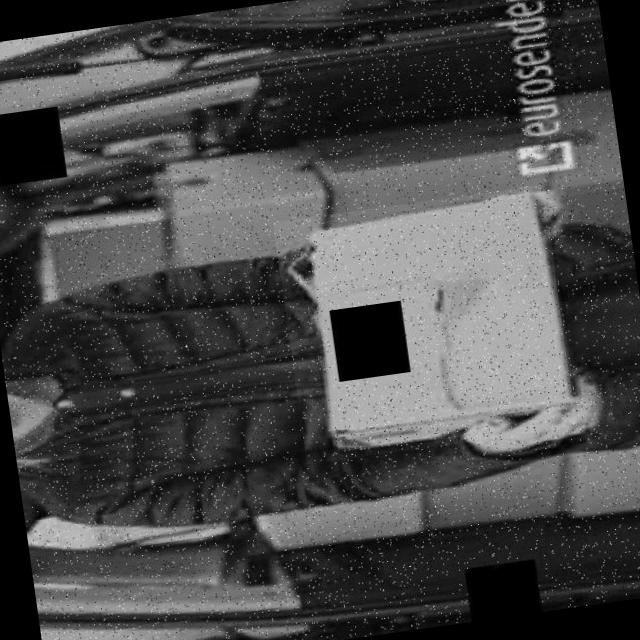box: (274, 184, 578, 465)
